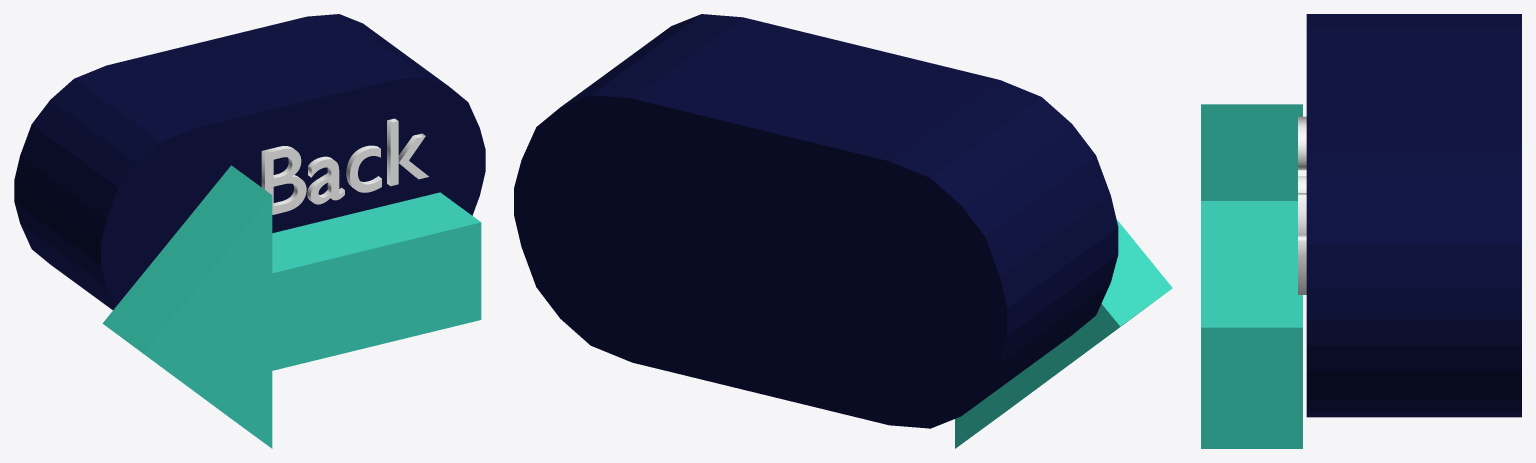
Rendered from BackL1.glb.
3 renders of one model, left to right at view 1: azimuth 30°, elevation 25°; view 2: azimuth 150°, elevation 25°; view 3: azimuth 270°, elevation 25°, orthographic. The views are drawn at different scales.
Visible parts, largest first — view 1: Plane.008, Plane.007, Text.005; view 2: Plane.008, Plane.007; view 3: Plane.008, Plane.007, Text.005.
Boxes of the visible parts, x1,y1,x2,y2 form: Plane.008: [14, 14, 485, 309]; Plane.007: [102, 165, 481, 448]; Text.005: [261, 118, 428, 214]; Plane.008: [514, 14, 1118, 428]; Plane.007: [955, 219, 1172, 448]; Plane.008: [1306, 14, 1521, 417]; Plane.007: [1201, 104, 1302, 448]; Text.005: [1298, 116, 1306, 294].
Size of the model in its own units: 0.2652 by 0.1962 by 0.1542.
